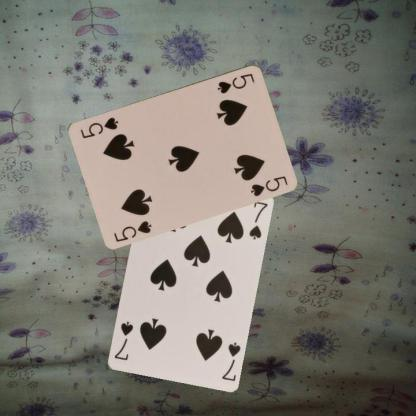5s: (111, 218, 153, 243), (215, 70, 256, 95)
7s: (219, 339, 242, 382)
